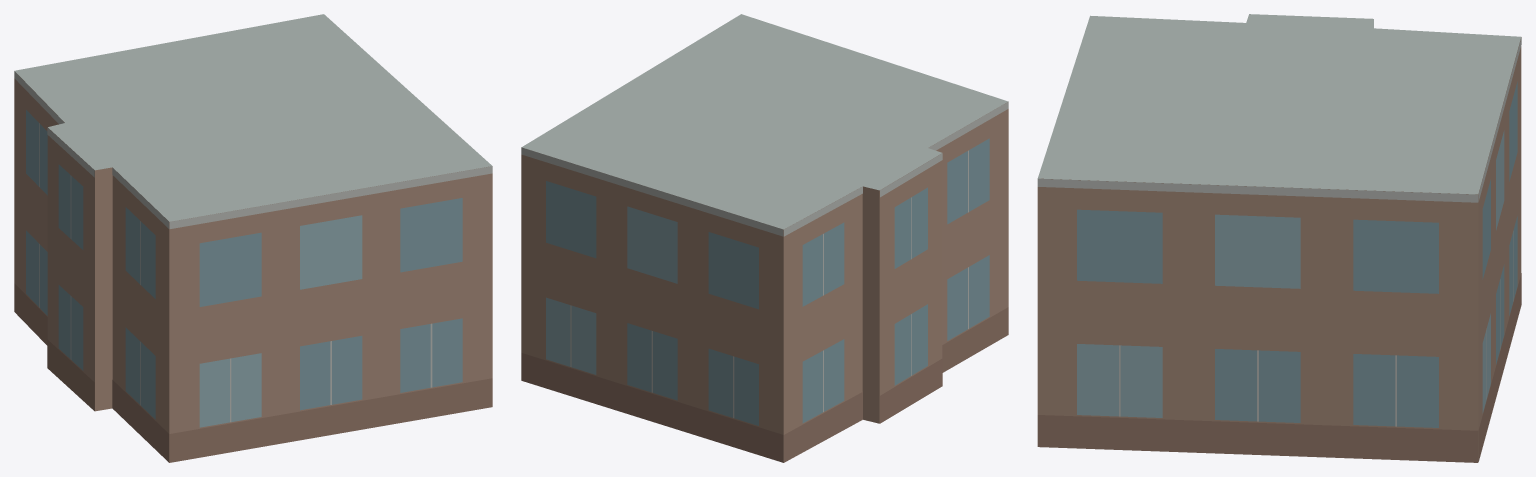
File: survey-upis-32642136.glb
3 views of the same model, side by side, from view 1: azimuth 30°, elevation 25°; view 2: azimuth 150°, elevation 25°; view 3: azimuth 270°, elevation 25° (orthographic). The views are drawn at different scales.
Parts seen in each view (by area): view 1: survey-upis-32642136.tmp; view 2: survey-upis-32642136.tmp; view 3: survey-upis-32642136.tmp.
Boxes of the visible parts, x1=… form: survey-upis-32642136.tmp: x1=14, y1=14, x2=492, y2=462; survey-upis-32642136.tmp: x1=521, y1=14, x2=1008, y2=462; survey-upis-32642136.tmp: x1=1037, y1=14, x2=1521, y2=462.
Bounding box in the file's own units: 11.4 × 7.9 × 12.91.
